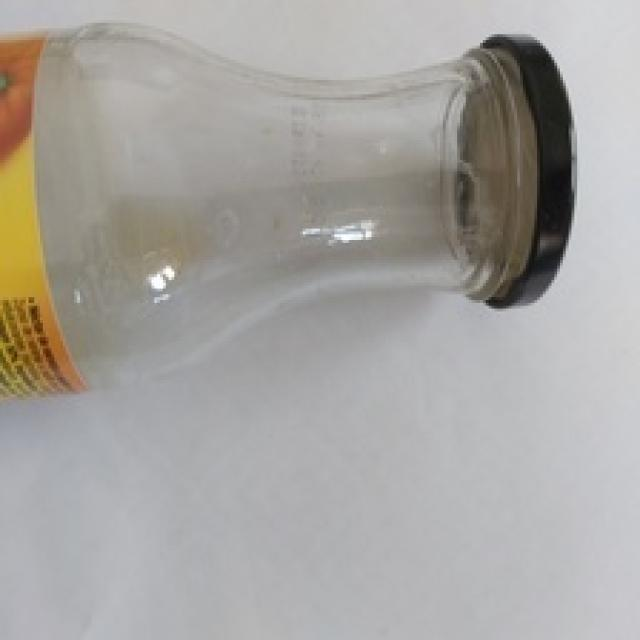Glass: (0, 19, 538, 400)
